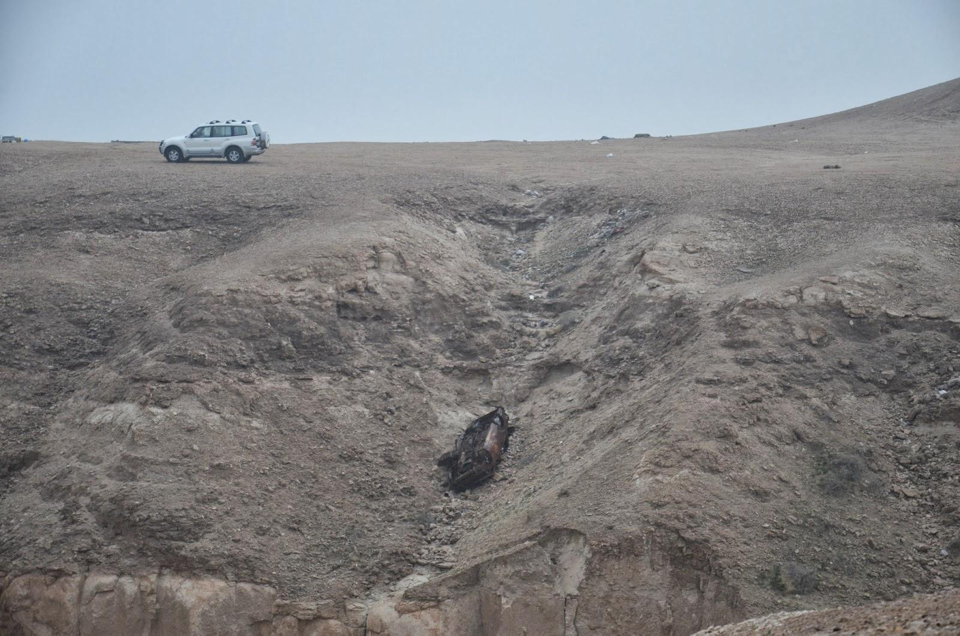car: (446, 406, 511, 496), (159, 118, 271, 164)
